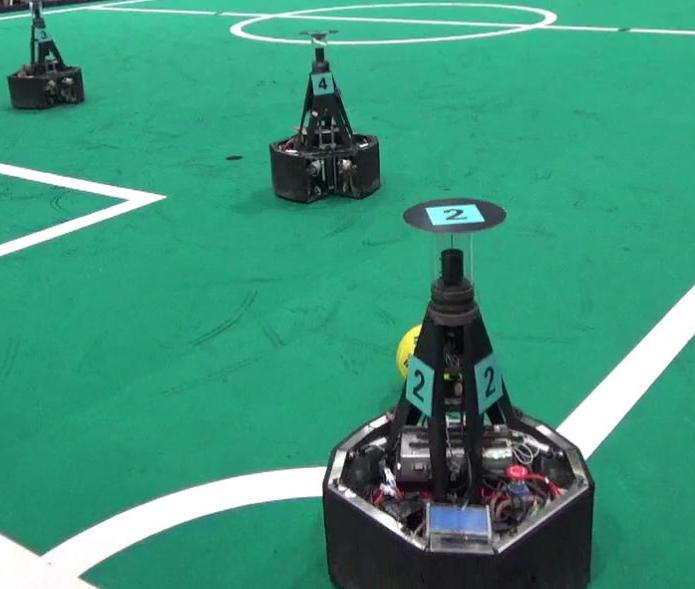robot: (313, 192, 599, 587), (263, 28, 384, 205), (4, 3, 87, 112)
